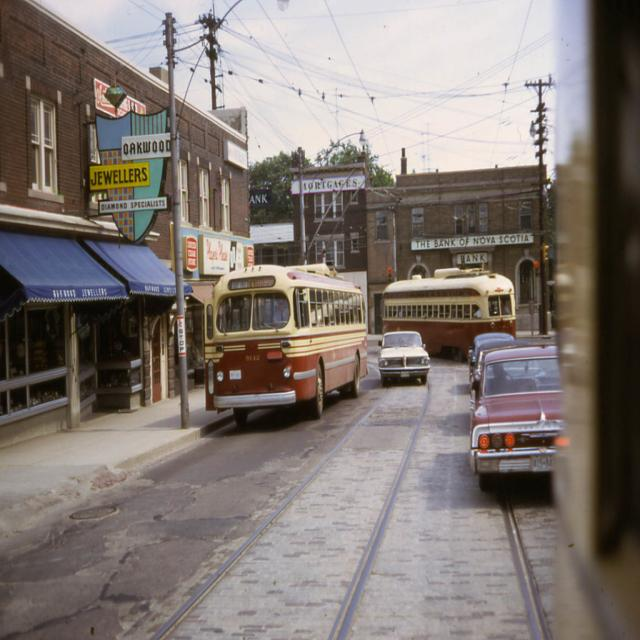car: (376, 330, 430, 383)
